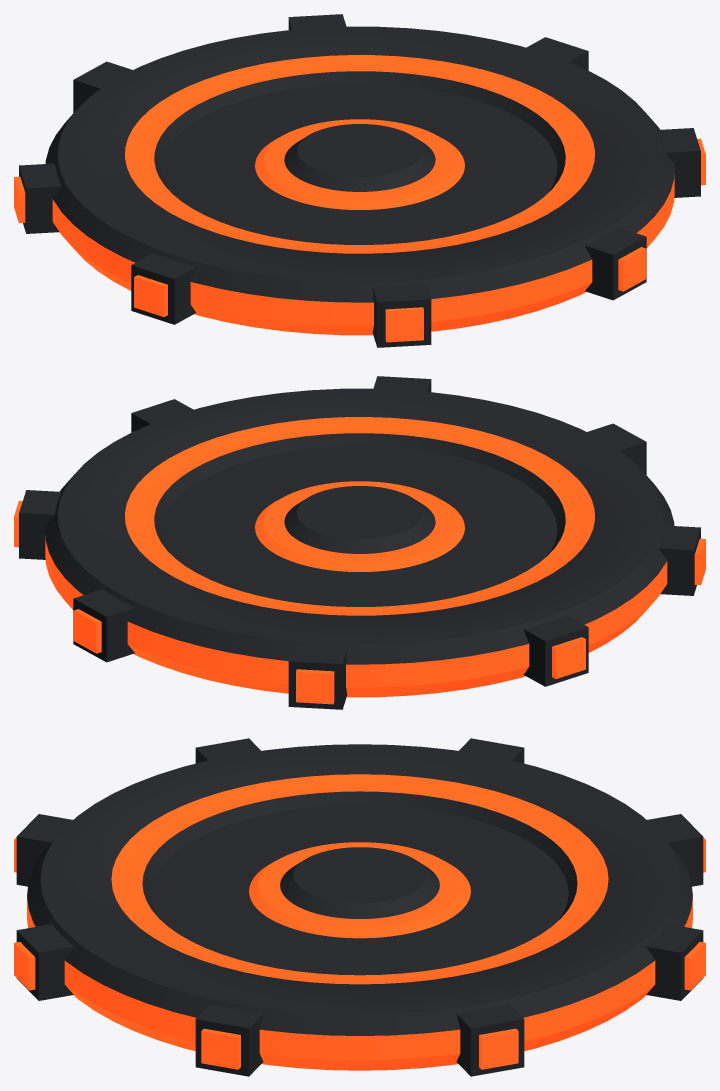
File: disc-crimson.glb
3 renders of one model, top to bottom at view 1: azimuth 30°, elevation 25°; view 2: azimuth 150°, elevation 25°; view 3: azimuth 270°, elevation 25°, orthographic. The views are drawn at different scales.
Visible parts, largest first — view 1: RedGuard_Disc; view 2: RedGuard_Disc; view 3: RedGuard_Disc.
Boxes of the visible parts, <box> form: RedGuard_Disc: <box>14,14,705,347</box>; RedGuard_Disc: <box>14,376,705,709</box>; RedGuard_Disc: <box>14,738,705,1076</box>.
Size of the model in its own units: 0.3118 by 0.032 by 0.3118.
